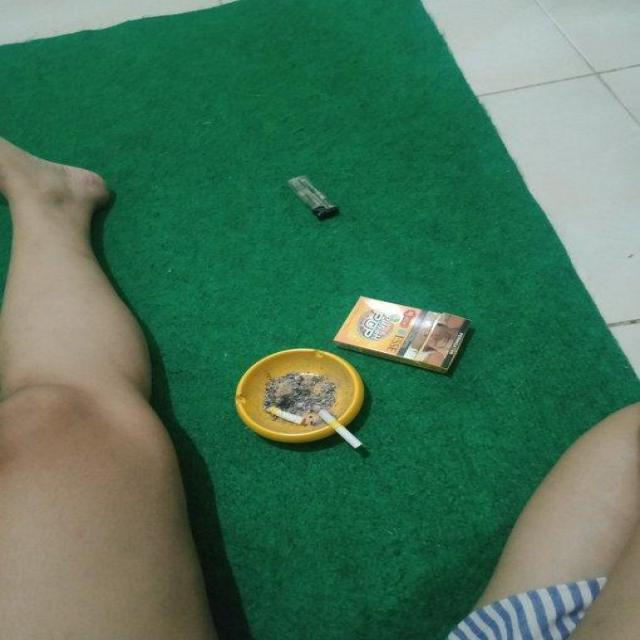rokok: (315, 408, 365, 454), (264, 400, 306, 426)
